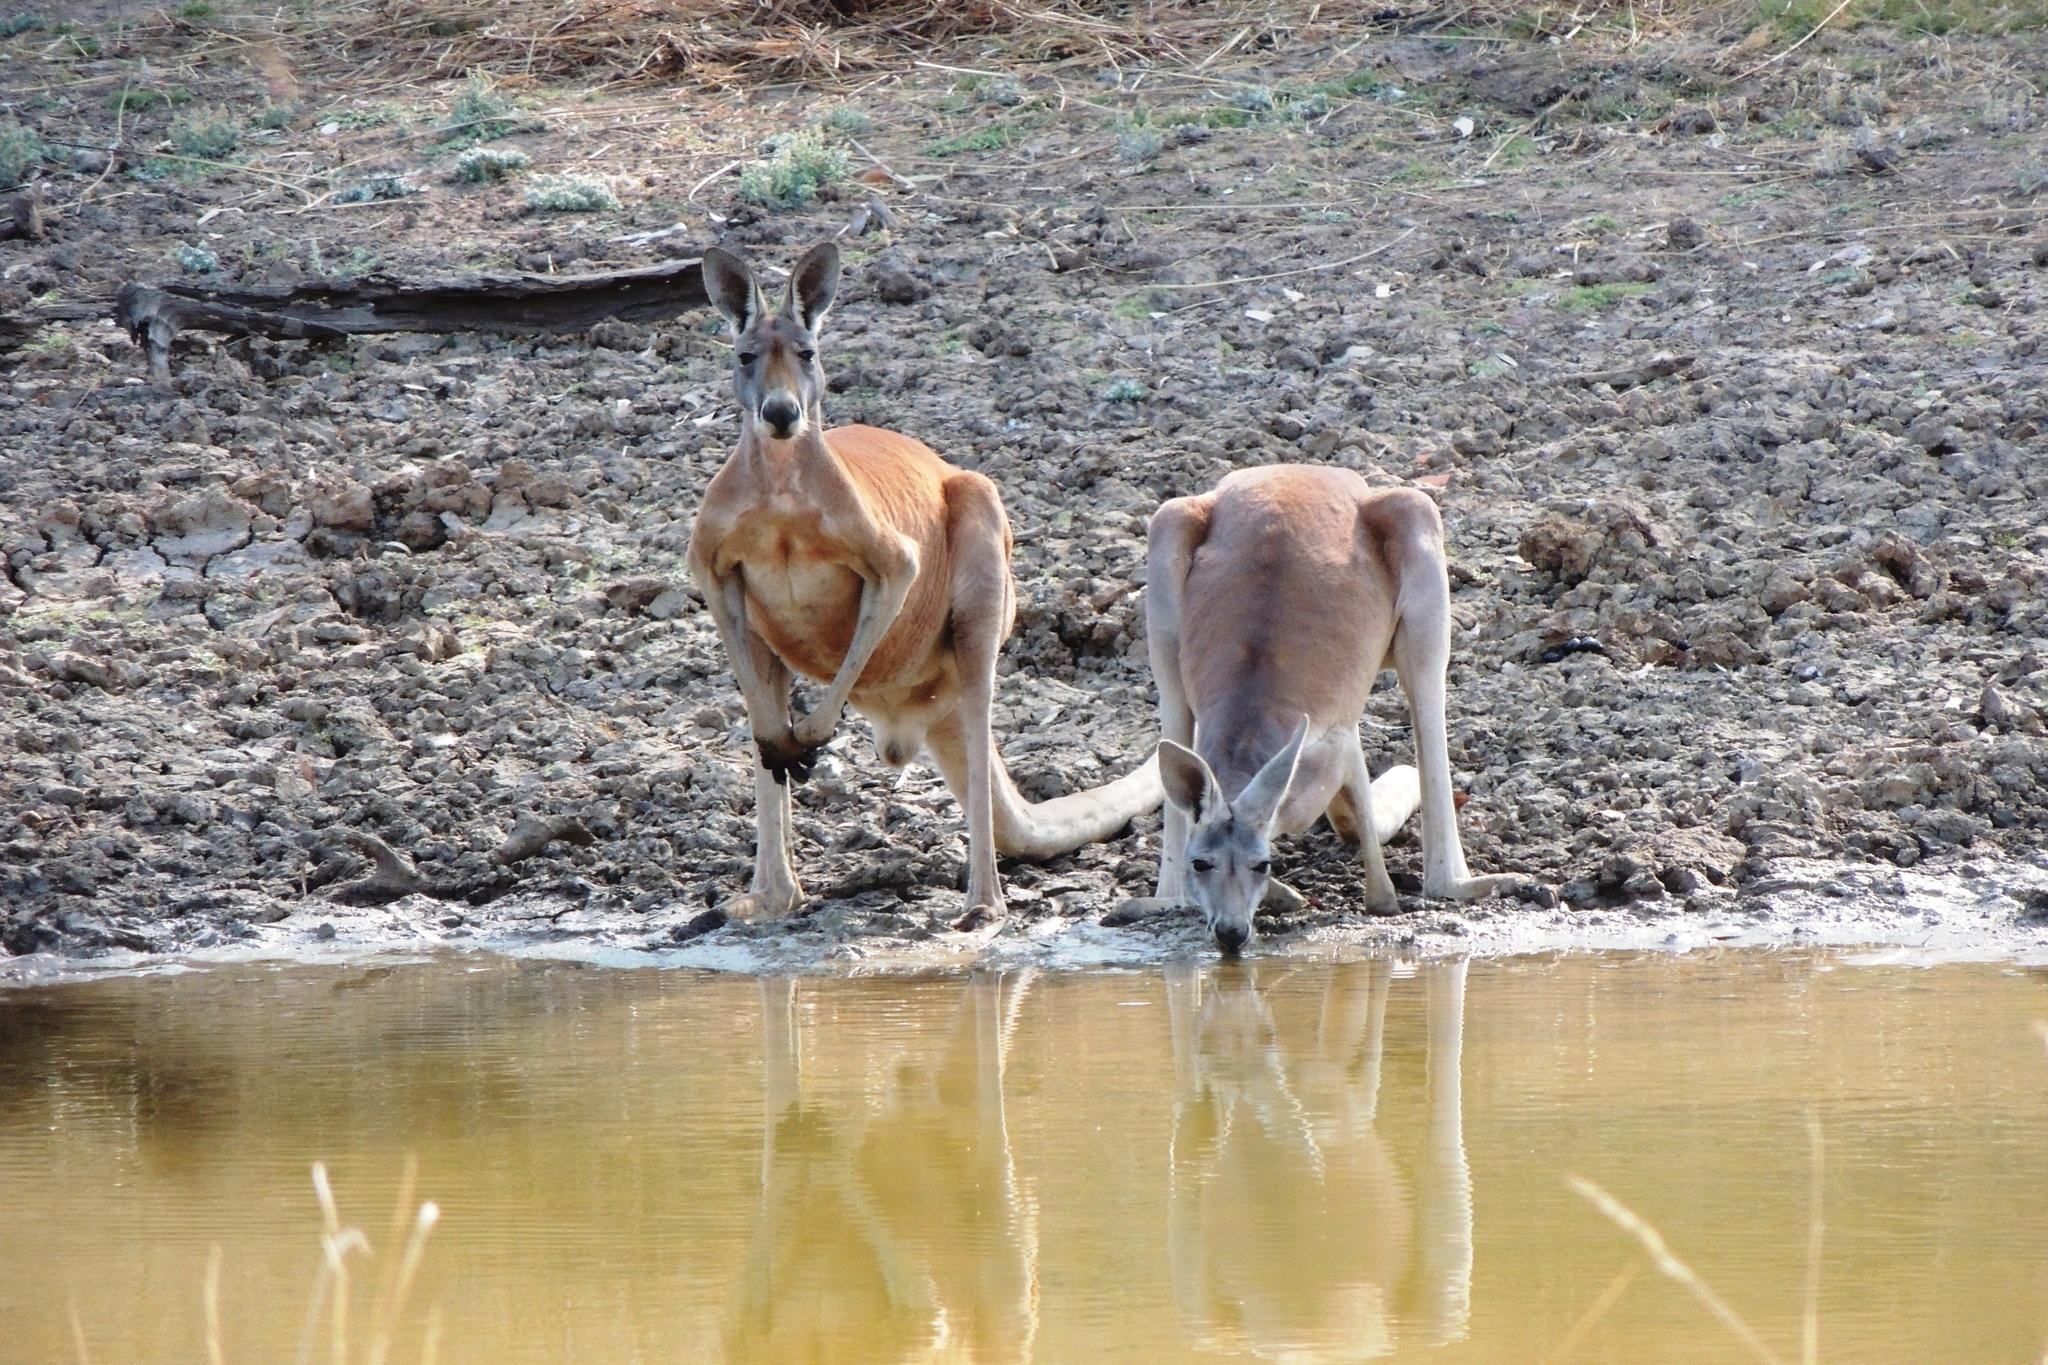Red kangaroo: (681, 233, 1300, 951), (1099, 456, 1546, 972)
